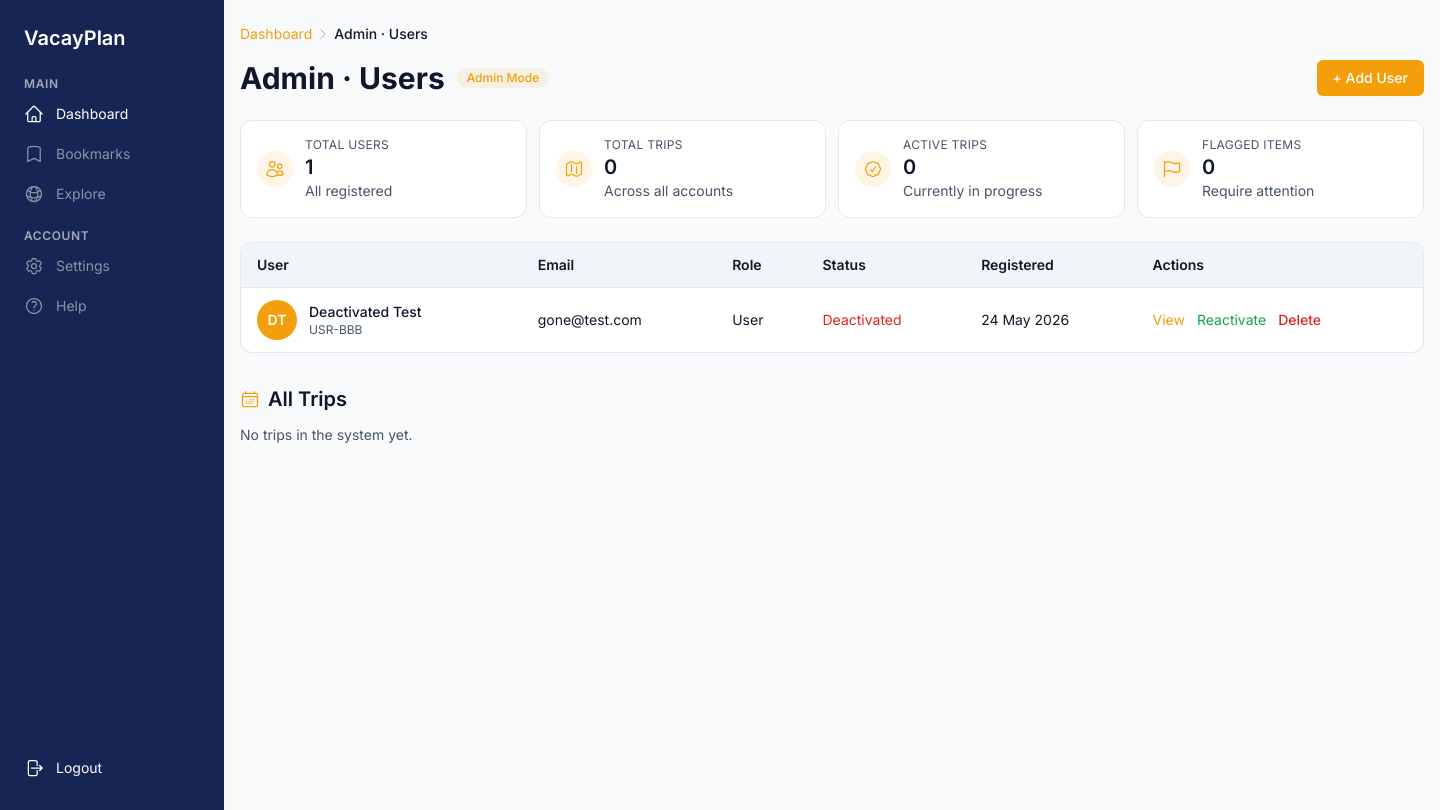
Scenario: AdminUserList › status toggle › Reactivate flow PATCHes with status=active and updates the row on success
The width and height of the screenshot is (1440, 810).
Click the button "Reactivate".
click(1232, 320)  # box top-left (1197, 310), bottom-right (1266, 330)
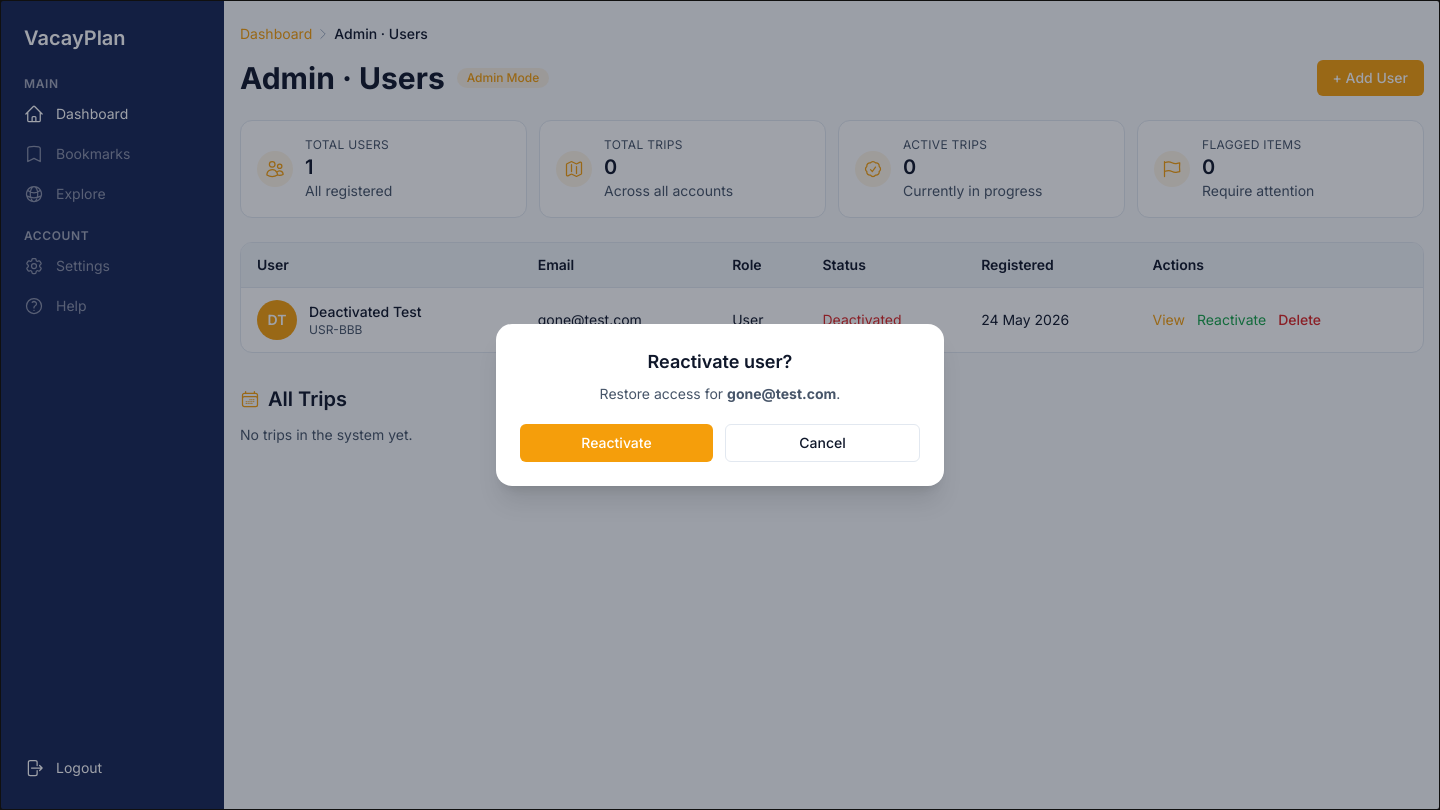
Check: the heading "Reactivate user?" is shown, box top-left (648, 351), bottom-right (792, 372)
Click the button "Reactivate".
click(616, 443)  # box top-left (520, 424), bottom-right (713, 462)
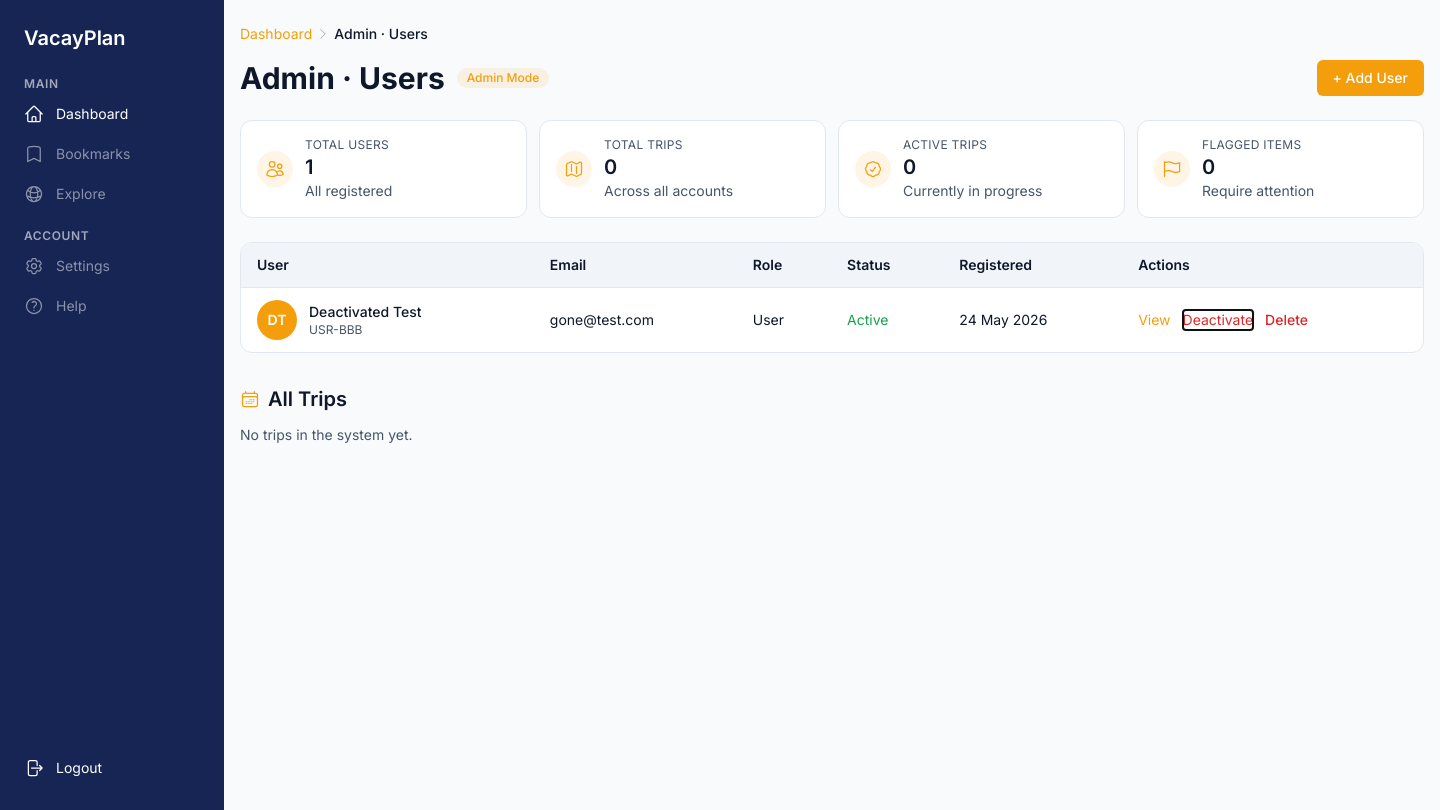
Check: the dialog is gone
Check: the text "Active" is shown, box top-left (847, 311), bottom-right (888, 328)
